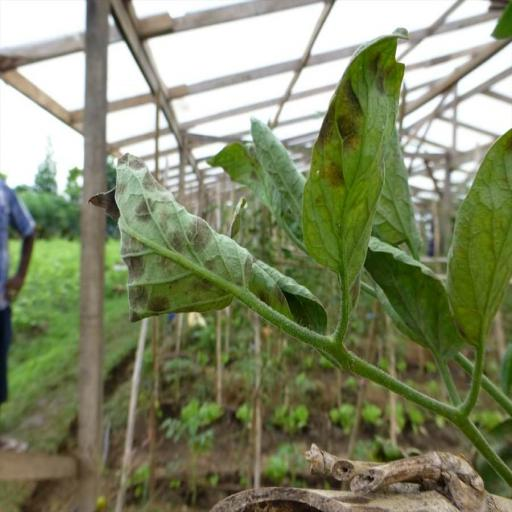Leaf Mold: (298, 7, 403, 289), (113, 153, 255, 323), (443, 122, 512, 347)
